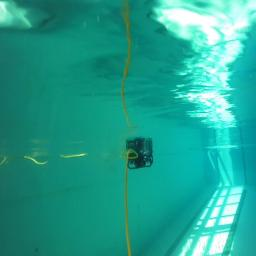front: (126, 151, 154, 169), (128, 151, 154, 170)
